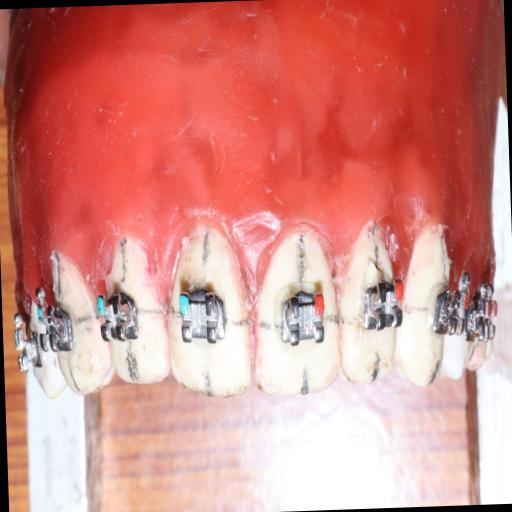incorrect_brace: (272, 285, 330, 353), (176, 284, 228, 348)
